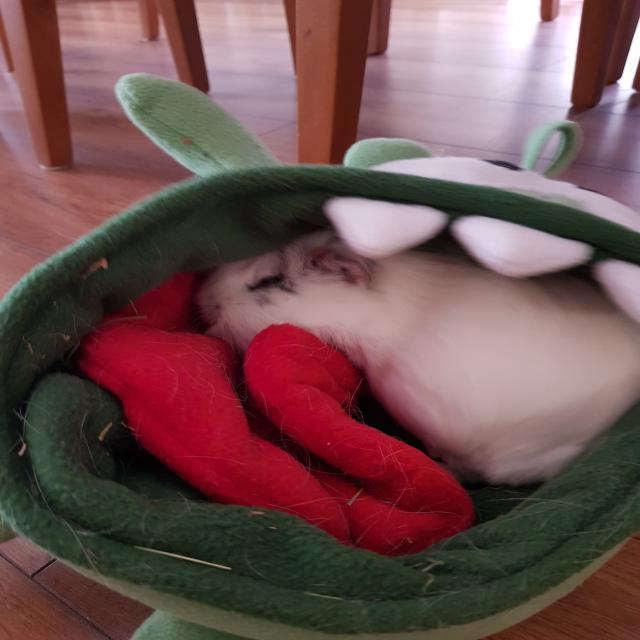guinea pig: (188, 220, 636, 490)
